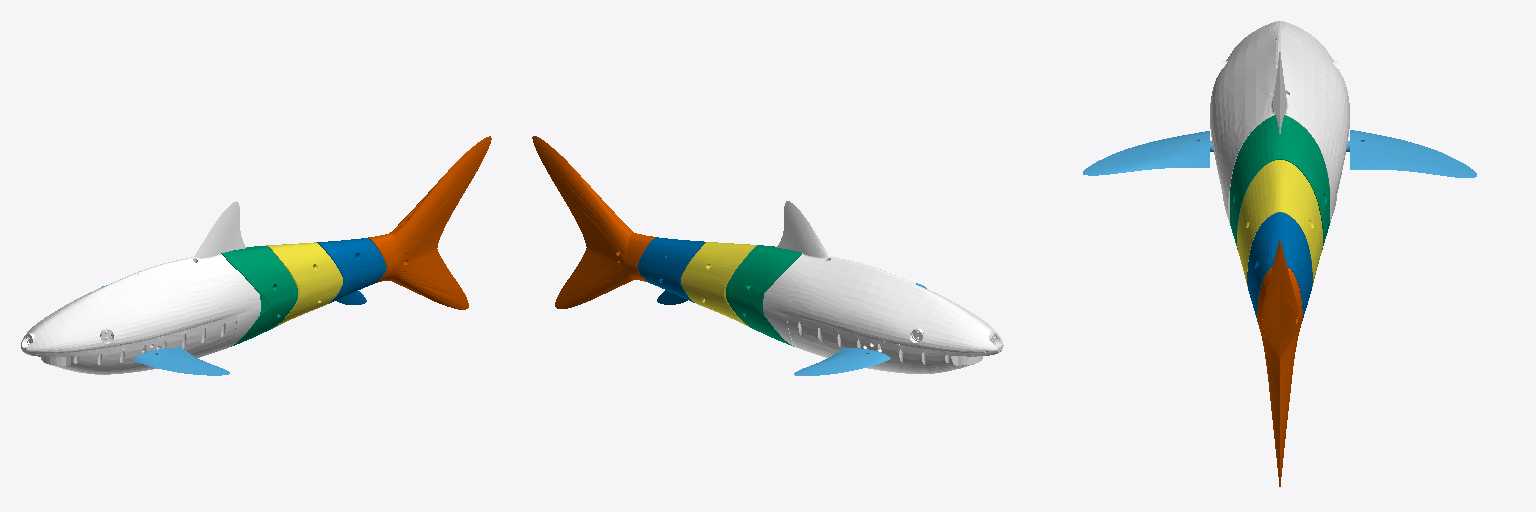
robot.urdf — shark_test:
<?xml version="1.0" ?>
<!-- =================================================================================== -->
<!-- |    This document was autogenerated by xacro from [local-path]/robot_fish/src/shark_test_description/robots/default.xacro | -->
<!-- |    EDITING THIS FILE BY HAND IS NOT RECOMMENDED                                 | -->
<!-- =================================================================================== -->
<robot name="shark_test">
  <!-- Some pretty colors -->
  <material name="blue">
    <color rgba="0.0 0.0 0.8 1.0"/>
  </material>
  <material name="green">
    <color rgba="0.0 0.8 0.0 1.0"/>
  </material>
  <material name="grey">
    <color rgba="0.7 0.7 0.7 1.0"/>
  </material>
  <material name="grey2">
    <color rgba="0.9 0.9 0.9 1.0"/>
  </material>
  <material name="red">
    <color rgba="0.8 0.0 0.0 1.0"/>
  </material>
  <material name="orange">
    <color rgba="1.0 0.5 0.0 1.0"/>
  </material>
  <material name="white">
    <color rgba="1.0 1.0 1.0 1.0"/>
  </material>
  <material name="black">
    <color rgba="0.05 0.05 0.05 1.0"/>
  </material>
  <!-- ROTOR DYNAMICS MACROS -->
  <!-- First order dynamics -->
  <!--
    MACROS FOR CONVERSION FUNCTIONS BETWEEN ROTOR'S ANG. VELOCITY AND
    THRUSTER FORCE
  -->
  <!-- THRUSTER MODULE MACROS  -->
  <!--
    Thruster model with first order dynamic model for the rotor dynamics
    and a proportional non-linear steady-state conversion from the rotor's
    angular velocity to output thrust force
  -->
  <!-- MACRO FOR FIN/RUDDER UNITS  -->
  <!--
    This macro can be used to add fins to the body of the vehicle, the fins
    should be initialized in the actuators.xacro file. If you vehicle has no
    fins, you can erase the macro below.
  -->
  <!-- 移除硬编码的鳍限位（改为通过参数传递） -->
  <!-- <xacro:property name="fin_min_joint_limit" value="${-0.5 * d2r}"/> -->
  <!-- <xacro:property name="fin_max_joint_limit" value="${0.5 * d2r}"/> -->
  <!-- 核心连杆base_link（整合水动力参数） -->
  <link name="shark_test/base_link">
    <!-- 惯性参数 -->
    <inertial>
      <mass value="1.753"/>
      <origin rpy="0 0 0" xyz="0.038191 -0.0011682 0.019734"/>
      <inertia ixx="0.0011992" ixy="-5.9532E-07" ixz="-4.094E-05" iyy="0.0049871" iyz="-7.025E-07" izz="0.0055025"/>
    </inertial>
    <!-- 可视化模型 -->
    <visual>
      <origin rpy="0 0 0" xyz="0 0 0"/>
      <geometry>
        <mesh filename="package://shark_test_description/meshes/base_link.STL" scale="1 1 1"/>
      </geometry>
      <material name="white">
        <color rgba="1 1 1 1"/>
      </material>
    </visual>
    <!-- 碰撞体 -->
    <collision>
      <origin rpy="0 0 0" xyz="0 0 0"/>
      <geometry>
        <mesh filename="package://shark_test_description/meshes/base_link.STL" scale="1 1 1"/>
      </geometry>
    </collision>
    <collision>
      <origin rpy="0 0 0" xyz="0.038191 -0.0011682 0.019734"/>
      <geometry>
        <box size="0.65 0.32 0.25"/>
      </geometry>
    </collision>
    <!-- 关键：直接在base_link内添加水动力参数 -->
    <neutrally_buoyant>0</neutrally_buoyant>
    <volume>0.004</volume>
    <center_of_buoyancy>0.038191 -0.0011682 0.029734</center_of_buoyancy>
    <box>
      <width>0.32</width>
      <length>0.65</length>
      <height>0.25</height>
    </box>
    <hydrodynamic_model>
      <type>fossen</type>
      <added_mass>
          0.1   0      0      0      0      0
          0    0.08    0      0      0      0
          0     0     0.12    0      0      0
          0     0      0     0.01    0      0
          0     0      0      0     0.01    0
          0     0      0      0      0     0.01
        </added_mass>
      <linear_damping>[phone redacted] 50 50 50</linear_damping>
      <!-- 增大20倍 -->
      <quadratic_damping>[phone redacted] [phone redacted]</quadratic_damping>
    </hydrodynamic_model>
  </link>
  <!-- Gazebo自碰撞设置 -->
  <gazebo reference="shark_test/base_link">
    <selfCollide>false</selfCollide>
    <max_contacts>10</max_contacts>
  </gazebo>
  <!-- 插入gazebo插件块 -->
  <gazebo>
    <plugin filename="libuuv_underwater_object_ros_plugin.so" name="uuv_plugin">
      <link_name>shark_test/base_link</link_name>
      <!-- 使用命名空间变量 -->
      <fluid_density>1028.0</fluid_density>
      <flow_velocity_topic>/hydrodynamics/current_velocity</flow_velocity_topic>
      <debug>true</debug>
      <use_global_current>true</use_global_current>
      <enable_buoyancy_debug>true</enable_buoyancy_debug>
    </plugin>
  </gazebo>
  <!-- 基于base.xacro的位置参数，配置5个鱼鳍（修复胸鳍关节锁死） -->
  <joint name="shark_test/fin0_joint" type="revolute">
    <!-- 使用传入的限位、effort、velocity参数 -->
    <limit effort="5.0" lower="-0.52" upper="0.52" velocity="2.0"/>
    <origin rpy="0 0 0" xyz="0 0 0"/>
    <axis xyz="0 1 0"/>
    <!-- 使用传入的旋转轴参数 -->
    <parent link="shark_test/base_link"/>
    <child link="shark_test/fin0"/>
  </joint>
  <link name="shark_test/fin0">
    <inertial>
      <mass value="0.78"/>
      <!-- 增大质量，避免Gazebo中模型漂浮 -->
      <origin rpy="0 0 0" xyz="0 0 0"/>
      <inertia ixx="0.0001" ixy="0.0" ixz="0.0" iyy="0.0001" iyz="0.0" izz="0.0001"/>
      <!-- 增大转动惯量，提升物理稳定性 -->
    </inertial>
    <visual>
      <origin rpy="0 0 0" xyz="0 0 0"/>
      <geometry>
        <mesh filename="package://shark_test_description/meshes/body_fin.STL" scale="1 1 1"/>
        <!-- 直接使用传入的mesh_file参数 -->
      </geometry>
    </visual>
    <!-- 新增碰撞模型，否则Gazebo中鳍无碰撞体积 -->
    <collision>
      <origin rpy="0 0 0" xyz="0 0 0"/>
      <geometry>
        <mesh filename="package://shark_test_description/meshes/body_fin.STL" scale="1 1 1"/>
      </geometry>
    </collision>
  </link>
  <gazebo>
    <plugin filename="libuuv_fin_ros_plugin.so" name="shark_test_fin0_model">
      <fin_id>0</fin_id>
      <command_topic>shark_test/fins/0/input</command_topic>
      <!-- 鳍关节动力学模型：一阶延迟，时间常数0.1秒 -->
      <dynamics>
        <type>FirstOrder</type>
        <timeConstant>0.1</timeConstant>
      </dynamics>
      <!-- 选择二次升力/阻力模型（更适合仿生鱼鳍） -->
      <liftdrag>
        <type>Quadratic</type>
        <lift_constant>2000.0</lift_constant>
        <!-- 升力系数，越大推力越强 -->
        <drag_constant>100.0</drag_constant>
        <!-- 阻力系数 -->
        <forward_axis>1 0 0</forward_axis>
        <!-- 推力方向（x轴前进） -->
        <up_axis>0 0 1</up_axis>
        <!-- 升力方向（z轴上浮） -->
      </liftdrag>
      <!-- 水动力关键参数 -->
      <current_velocity_topic>/hydrodynamics/current_velocity</current_velocity_topic>
      <link_name>shark_test/fin0</link_name>
      <joint_name>shark_test/fin0_joint</joint_name>
      <!-- ROS话题配置 -->
      <output_topic>shark_test/fins/0/output</output_topic>
      <wrench_topic>shark_test/fins/0/wrench_topic</wrench_topic>
    </plugin>
    <!-- 新增流体阻力插件，模拟水对鳍的阻尼（可选启用） -->
    <!-- <plugin name="${namespace}_fin${fin_id}_hydrodynamics" filename="libuuv_hydrodynamic_plugin.so">
          <link_name>${namespace}/fin${fin_id}</link_name>
          <fluid_density>1000</fluid_density>
          <added_mass>
            <ixx>0.001</ixx>
            <iyy>0.001</iyy>
            <izz>0.001</izz>
          </added_mass>
          <linear_damping>
            <x>1.0</x>
            <y>1.0</y>
            <z>1.0</z>
          </linear_damping>
        </plugin> -->
  </gazebo>
  <joint name="shark_test/fin1_joint" type="revolute">
    <!-- 使用传入的限位、effort、velocity参数 -->
    <limit effort="5.0" lower="-0.54777" upper="0.54777" velocity="2.0"/>
    <origin rpy="0 0 0" xyz="0.16952 -0.001 0.022"/>
    <axis xyz="0 0 1"/>
    <!-- 使用传入的旋转轴参数 -->
    <parent link="shark_test/base_link"/>
    <child link="shark_test/fin1"/>
  </joint>
  <link name="shark_test/fin1">
    <inertial>
      <mass value="0.28"/>
      <!-- 增大质量，避免Gazebo中模型漂浮 -->
      <origin rpy="0 0 0" xyz="0 0 0"/>
      <inertia ixx="0.0001" ixy="0.0" ixz="0.0" iyy="0.0001" iyz="0.0" izz="0.0001"/>
      <!-- 增大转动惯量，提升物理稳定性 -->
    </inertial>
    <visual>
      <origin rpy="0 0 0" xyz="0 0 0"/>
      <geometry>
        <mesh filename="package://shark_test_description/meshes/link1.STL" scale="1 1 1"/>
        <!-- 直接使用传入的mesh_file参数 -->
      </geometry>
    </visual>
    <!-- 新增碰撞模型，否则Gazebo中鳍无碰撞体积 -->
    <collision>
      <origin rpy="0 0 0" xyz="0 0 0"/>
      <geometry>
        <mesh filename="package://shark_test_description/meshes/link1.STL" scale="1 1 1"/>
      </geometry>
    </collision>
  </link>
  <gazebo>
    <plugin filename="libuuv_fin_ros_plugin.so" name="shark_test_fin1_model">
      <fin_id>1</fin_id>
      <command_topic>shark_test/fins/1/input</command_topic>
      <!-- 鳍关节动力学模型：一阶延迟，时间常数0.1秒 -->
      <dynamics>
        <type>FirstOrder</type>
        <timeConstant>0.1</timeConstant>
      </dynamics>
      <!-- 选择二次升力/阻力模型（更适合仿生鱼鳍） -->
      <liftdrag>
        <type>Quadratic</type>
        <lift_constant>2000.0</lift_constant>
        <!-- 升力系数，越大推力越强 -->
        <drag_constant>100.0</drag_constant>
        <!-- 阻力系数 -->
        <forward_axis>1 0 0</forward_axis>
        <!-- 推力方向（x轴前进） -->
        <up_axis>0 0 1</up_axis>
        <!-- 升力方向（z轴上浮） -->
      </liftdrag>
      <!-- 水动力关键参数 -->
      <current_velocity_topic>/hydrodynamics/current_velocity</current_velocity_topic>
      <link_name>shark_test/fin1</link_name>
      <joint_name>shark_test/fin1_joint</joint_name>
      <!-- ROS话题配置 -->
      <output_topic>shark_test/fins/1/output</output_topic>
      <wrench_topic>shark_test/fins/1/wrench_topic</wrench_topic>
    </plugin>
    <!-- 新增流体阻力插件，模拟水对鳍的阻尼（可选启用） -->
    <!-- <plugin name="${namespace}_fin${fin_id}_hydrodynamics" filename="libuuv_hydrodynamic_plugin.so">
          <link_name>${namespace}/fin${fin_id}</link_name>
          <fluid_density>1000</fluid_density>
          <added_mass>
            <ixx>0.001</ixx>
            <iyy>0.001</iyy>
            <izz>0.001</izz>
          </added_mass>
          <linear_damping>
            <x>1.0</x>
            <y>1.0</y>
            <z>1.0</z>
          </linear_damping>
        </plugin> -->
  </gazebo>
  <joint name="shark_test/fin2_joint" type="revolute">
    <!-- 使用传入的限位、effort、velocity参数 -->
    <limit effort="5.0" lower="-0.5242" upper="0.5242" velocity="2.0"/>
    <origin rpy="0 0 0" xyz="0.06502 0 0"/>
    <axis xyz="0 0 -1"/>
    <!-- 使用传入的旋转轴参数 -->
    <parent link="shark_test/fin1"/>
    <child link="shark_test/fin2"/>
  </joint>
  <link name="shark_test/fin2">
    <inertial>
      <mass value="0.23"/>
      <!-- 增大质量，避免Gazebo中模型漂浮 -->
      <origin rpy="0 0 0" xyz="0 0 0"/>
      <inertia ixx="0.0001" ixy="0.0" ixz="0.0" iyy="0.0001" iyz="0.0" izz="0.0001"/>
      <!-- 增大转动惯量，提升物理稳定性 -->
    </inertial>
    <visual>
      <origin rpy="0 0 0" xyz="0 0 0"/>
      <geometry>
        <mesh filename="package://shark_test_description/meshes/link2.STL" scale="1 1 1"/>
        <!-- 直接使用传入的mesh_file参数 -->
      </geometry>
    </visual>
    <!-- 新增碰撞模型，否则Gazebo中鳍无碰撞体积 -->
    <collision>
      <origin rpy="0 0 0" xyz="0 0 0"/>
      <geometry>
        <mesh filename="package://shark_test_description/meshes/link2.STL" scale="1 1 1"/>
      </geometry>
    </collision>
  </link>
  <gazebo>
    <plugin filename="libuuv_fin_ros_plugin.so" name="shark_test_fin2_model">
      <fin_id>2</fin_id>
      <command_topic>shark_test/fins/2/input</command_topic>
      <!-- 鳍关节动力学模型：一阶延迟，时间常数0.1秒 -->
      <dynamics>
        <type>FirstOrder</type>
        <timeConstant>0.1</timeConstant>
      </dynamics>
      <!-- 选择二次升力/阻力模型（更适合仿生鱼鳍） -->
      <liftdrag>
        <type>Quadratic</type>
        <lift_constant>2000.0</lift_constant>
        <!-- 升力系数，越大推力越强 -->
        <drag_constant>100.0</drag_constant>
        <!-- 阻力系数 -->
        <forward_axis>1 0 0</forward_axis>
        <!-- 推力方向（x轴前进） -->
        <up_axis>0 0 1</up_axis>
        <!-- 升力方向（z轴上浮） -->
      </liftdrag>
      <!-- 水动力关键参数 -->
      <current_velocity_topic>/hydrodynamics/current_velocity</current_velocity_topic>
      <link_name>shark_test/fin2</link_name>
      <joint_name>shark_test/fin2_joint</joint_name>
      <!-- ROS话题配置 -->
      <output_topic>shark_test/fins/2/output</output_topic>
      <wrench_topic>shark_test/fins/2/wrench_topic</wrench_topic>
    </plugin>
    <!-- 新增流体阻力插件，模拟水对鳍的阻尼（可选启用） -->
    <!-- <plugin name="${namespace}_fin${fin_id}_hydrodynamics" filename="libuuv_hydrodynamic_plugin.so">
          <link_name>${namespace}/fin${fin_id}</link_name>
          <fluid_density>1000</fluid_density>
          <added_mass>
            <ixx>0.001</ixx>
            <iyy>0.001</iyy>
            <izz>0.001</izz>
          </added_mass>
          <linear_damping>
            <x>1.0</x>
            <y>1.0</y>
            <z>1.0</z>
          </linear_damping>
        </plugin> -->
  </gazebo>
  <joint name="shark_test/fin3_joint" type="revolute">
    <!-- 使用传入的限位、effort、velocity参数 -->
    <limit effort="4.0" lower="-0.424" upper="0.424" velocity="1.5"/>
    <origin rpy="0 0 0" xyz="0.06402 0 0"/>
    <axis xyz="0 0 1"/>
    <!-- 使用传入的旋转轴参数 -->
    <parent link="shark_test/fin2"/>
    <child link="shark_test/fin3"/>
  </joint>
  <link name="shark_test/fin3">
    <inertial>
      <mass value="0.19"/>
      <!-- 增大质量，避免Gazebo中模型漂浮 -->
      <origin rpy="0 0 0" xyz="0 0 0"/>
      <inertia ixx="0.0001" ixy="0.0" ixz="0.0" iyy="0.0001" iyz="0.0" izz="0.0001"/>
      <!-- 增大转动惯量，提升物理稳定性 -->
    </inertial>
    <visual>
      <origin rpy="0 0 0" xyz="0 0 0"/>
      <geometry>
        <mesh filename="package://shark_test_description/meshes/link3.STL" scale="1 1 1"/>
        <!-- 直接使用传入的mesh_file参数 -->
      </geometry>
    </visual>
    <!-- 新增碰撞模型，否则Gazebo中鳍无碰撞体积 -->
    <collision>
      <origin rpy="0 0 0" xyz="0 0 0"/>
      <geometry>
        <mesh filename="package://shark_test_description/meshes/link3.STL" scale="1 1 1"/>
      </geometry>
    </collision>
  </link>
  <gazebo>
    <plugin filename="libuuv_fin_ros_plugin.so" name="shark_test_fin3_model">
      <fin_id>3</fin_id>
      <command_topic>shark_test/fins/3/input</command_topic>
      <!-- 鳍关节动力学模型：一阶延迟，时间常数0.1秒 -->
      <dynamics>
        <type>FirstOrder</type>
        <timeConstant>0.1</timeConstant>
      </dynamics>
      <!-- 选择二次升力/阻力模型（更适合仿生鱼鳍） -->
      <liftdrag>
        <type>Quadratic</type>
        <lift_constant>2000.0</lift_constant>
        <!-- 升力系数，越大推力越强 -->
        <drag_constant>100.0</drag_constant>
        <!-- 阻力系数 -->
        <forward_axis>1 0 0</forward_axis>
        <!-- 推力方向（x轴前进） -->
        <up_axis>0 0 1</up_axis>
        <!-- 升力方向（z轴上浮） -->
      </liftdrag>
      <!-- 水动力关键参数 -->
      <current_velocity_topic>/hydrodynamics/current_velocity</current_velocity_topic>
      <link_name>shark_test/fin3</link_name>
      <joint_name>shark_test/fin3_joint</joint_name>
      <!-- ROS话题配置 -->
      <output_topic>shark_test/fins/3/output</output_topic>
      <wrench_topic>shark_test/fins/3/wrench_topic</wrench_topic>
    </plugin>
    <!-- 新增流体阻力插件，模拟水对鳍的阻尼（可选启用） -->
    <!-- <plugin name="${namespace}_fin${fin_id}_hydrodynamics" filename="libuuv_hydrodynamic_plugin.so">
          <link_name>${namespace}/fin${fin_id}</link_name>
          <fluid_density>1000</fluid_density>
          <added_mass>
            <ixx>0.001</ixx>
            <iyy>0.001</iyy>
            <izz>0.001</izz>
          </added_mass>
          <linear_damping>
            <x>1.0</x>
            <y>1.0</y>
            <z>1.0</z>
          </linear_damping>
        </plugin> -->
  </gazebo>
  <joint name="shark_test/fin4_joint" type="revolute">
    <!-- 使用传入的限位、effort、velocity参数 -->
    <limit effort="2.0" lower="-0.265" upper="0.265" velocity="1.0"/>
    <origin rpy="0 0 0" xyz="0.0668 0 0"/>
    <axis xyz="0 0 -1"/>
    <!-- 使用传入的旋转轴参数 -->
    <parent link="shark_test/fin3"/>
    <child link="shark_test/fin4"/>
  </joint>
  <link name="shark_test/fin4">
    <inertial>
      <mass value="0.11"/>
      <!-- 增大质量，避免Gazebo中模型漂浮 -->
      <origin rpy="0 0 0" xyz="0 0 0"/>
      <inertia ixx="0.0001" ixy="0.0" ixz="0.0" iyy="0.0001" iyz="0.0" izz="0.0001"/>
      <!-- 增大转动惯量，提升物理稳定性 -->
    </inertial>
    <visual>
      <origin rpy="0 0 0" xyz="0 0 0"/>
      <geometry>
        <mesh filename="package://shark_test_description/meshes/link4.STL" scale="1 1 1"/>
        <!-- 直接使用传入的mesh_file参数 -->
      </geometry>
    </visual>
    <!-- 新增碰撞模型，否则Gazebo中鳍无碰撞体积 -->
    <collision>
      <origin rpy="0 0 0" xyz="0 0 0"/>
      <geometry>
        <mesh filename="package://shark_test_description/meshes/link4.STL" scale="1 1 1"/>
      </geometry>
    </collision>
  </link>
  <gazebo>
    <plugin filename="libuuv_fin_ros_plugin.so" name="shark_test_fin4_model">
      <fin_id>4</fin_id>
      <command_topic>shark_test/fins/4/input</command_topic>
      <!-- 鳍关节动力学模型：一阶延迟，时间常数0.1秒 -->
      <dynamics>
        <type>FirstOrder</type>
        <timeConstant>0.1</timeConstant>
      </dynamics>
      <!-- 选择二次升力/阻力模型（更适合仿生鱼鳍） -->
      <liftdrag>
        <type>Quadratic</type>
        <lift_constant>2000.0</lift_constant>
        <!-- 升力系数，越大推力越强 -->
        <drag_constant>100.0</drag_constant>
        <!-- 阻力系数 -->
        <forward_axis>1 0 0</forward_axis>
        <!-- 推力方向（x轴前进） -->
        <up_axis>0 0 1</up_axis>
        <!-- 升力方向（z轴上浮） -->
      </liftdrag>
      <!-- 水动力关键参数 -->
      <current_velocity_topic>/hydrodynamics/current_velocity</current_velocity_topic>
      <link_name>shark_test/fin4</link_name>
      <joint_name>shark_test/fin4_joint</joint_name>
      <!-- ROS话题配置 -->
      <output_topic>shark_test/fins/4/output</output_topic>
      <wrench_topic>shark_test/fins/4/wrench_topic</wrench_topic>
    </plugin>
    <!-- 新增流体阻力插件，模拟水对鳍的阻尼（可选启用） -->
    <!-- <plugin name="${namespace}_fin${fin_id}_hydrodynamics" filename="libuuv_hydrodynamic_plugin.so">
          <link_name>${namespace}/fin${fin_id}</link_name>
          <fluid_density>1000</fluid_density>
          <added_mass>
            <ixx>0.001</ixx>
            <iyy>0.001</iyy>
            <izz>0.001</izz>
          </added_mass>
          <linear_damping>
            <x>1.0</x>
            <y>1.0</y>
            <z>1.0</z>
          </linear_damping>
        </plugin> -->
  </gazebo>
  <!--
    Some examples of sensors that can be added to the vehicle frame.
    Set the origin of the sensor frames correctly for your application
    Look into the sensor macros in the package uuv_sensor_ros_plugins/urdf for
    more examples or add you own custom sensor units.
  -->
  <!-- Mount a GPS. -->
  <!-- <xacro:default_gps namespace="${namespace}" parent_link="${namespace}/base_link" /> -->
  <!-- Mount a Pose 3D sensor. -->
  <!-- <xacro:default_pose_3d namespace="${namespace}" parent_link="${namespace}/base_link" /> -->
  <!-- Forward-looking sonar sensor -->
  <!-- <xacro:forward_multibeam_p900 namespace="${namespace}" parent_link="${namespace}/base_link">
    <origin xyz="0 0 0" rpy="0 0 0"/>
  </xacro:forward_multibeam_p900> -->
  <!-- DVL  -->
  <!-- <xacro:default_dvl namespace="${namespace}" parent_link="${namespace}/base_link">
    <origin xyz="0 0 0" rpy="0 0 0"/>
  </xacro:default_dvl> -->
  <!-- RPT  -->
  <!-- <xacro:default_rpt namespace="${namespace}" parent_link="${namespace}/base_link">
    <origin xyz="0 0 0" rpy="0 0 0"/>
  </xacro:default_rpt> -->
  <!-- Pressure  -->
  <!-- <xacro:default_pressure namespace="${namespace}" parent_link="${namespace}/base_link">
    <origin xyz="0 0 0" rpy="0 0 0"/>
  </xacro:default_pressure> -->
  <!-- IMU  -->
  <!-- <xacro:default_imu namespace="${namespace}" parent_link="${namespace}/base_link">
    <origin xyz="0 0 0" rpy="0 0 0"/>
  </xacro:default_imu> -->
  <!-- Mount a camera  -->
  <!-- <xacro:default_camera namespace="${namespace}" parent_link="${namespace}/base_link" suffix="">
    <origin xyz="0 0 0" rpy="0 0 0"/>
  </xacro:default_camera> -->
  <gazebo>
    <plugin filename="libuuv_joint_state_publisher.so" name="uuv_joint_state_publisher">
      <robotNamespace>shark_test</robotNamespace>
      <updateRate>20</updateRate>
    </plugin>
  </gazebo>
</robot>

--- Facts derived from the render (not from the file) ---
The picture shows the robot from 3 angles, left to right: view 1: azimuth 30°, elevation 25°; view 2: azimuth 150°, elevation 25°; view 3: azimuth 270°, elevation 25°; orthographic projection.
Robot: shark_test — 6 links, 5 joints (5 revolute); root link shark_test/base_link; default pose: all joints at 0.
Visible links, largest first — view 1: shark_test/base_link, shark_test/fin4, shark_test/fin1, shark_test/fin2, shark_test/fin3, shark_test/fin0; view 2: shark_test/base_link, shark_test/fin4, shark_test/fin1, shark_test/fin2, shark_test/fin3, shark_test/fin0; view 3: shark_test/base_link, shark_test/fin0, shark_test/fin4, shark_test/fin1, shark_test/fin2, shark_test/fin3.
Boxes of the visible links, <box> form: shark_test/base_link: <box>21,201,260,374</box>; shark_test/fin4: <box>368,136,491,309</box>; shark_test/fin1: <box>221,246,297,346</box>; shark_test/fin2: <box>266,242,342,327</box>; shark_test/fin3: <box>317,238,386,304</box>; shark_test/fin0: <box>99,285,229,375</box>; shark_test/base_link: <box>763,201,1003,373</box>; shark_test/fin4: <box>532,136,655,308</box>; shark_test/fin1: <box>726,245,801,346</box>; shark_test/fin2: <box>681,242,756,326</box>; shark_test/fin3: <box>637,237,705,304</box>; shark_test/fin0: <box>794,283,926,375</box>; shark_test/base_link: <box>1210,21,1349,222</box>; shark_test/fin0: <box>1083,130,1476,177</box>; shark_test/fin4: <box>1257,241,1302,486</box>; shark_test/fin1: <box>1230,115,1329,249</box>; shark_test/fin2: <box>1237,160,1322,286</box>; shark_test/fin3: <box>1247,212,1312,321</box>.
Size in the robot's own frame: 0.6823 by 0.3123 by 0.2334 metres.
6 mesh visuals loaded from 6 distinct referenced files (6 binary STL).
